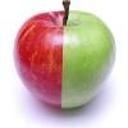apple: (12, 8, 120, 113)
